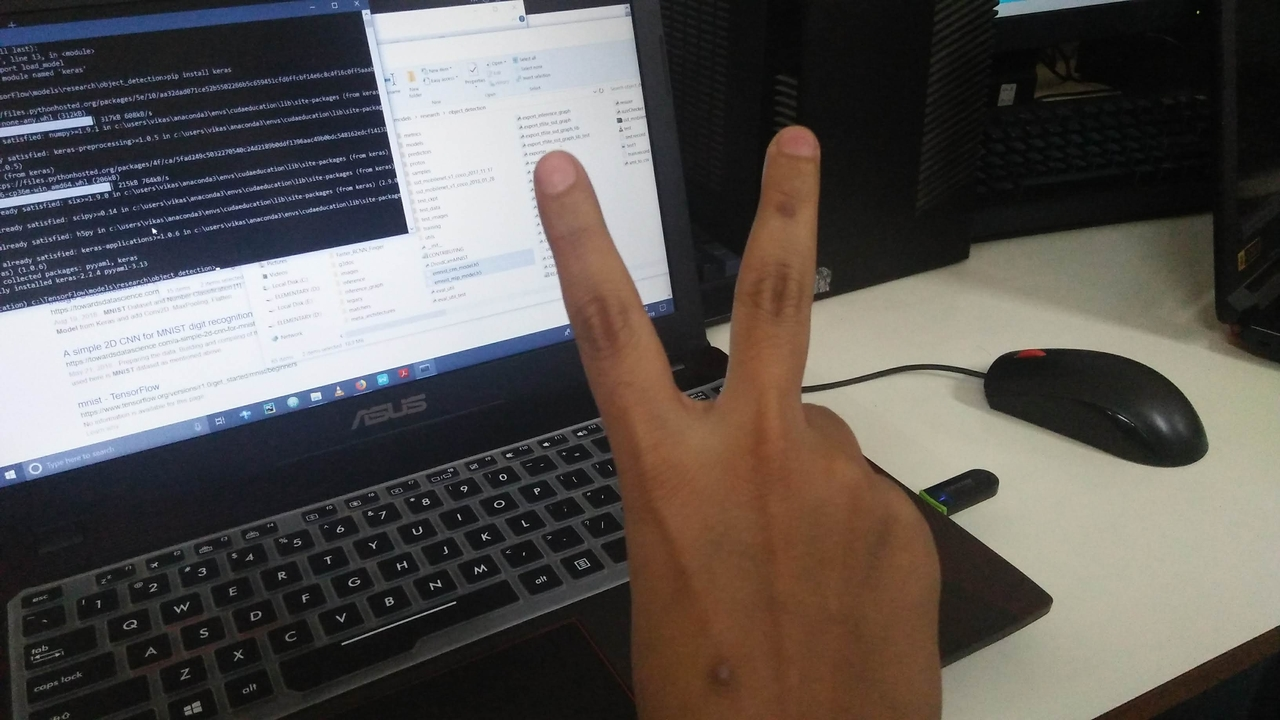fingertip: (524, 142, 596, 206), (758, 120, 826, 178)
